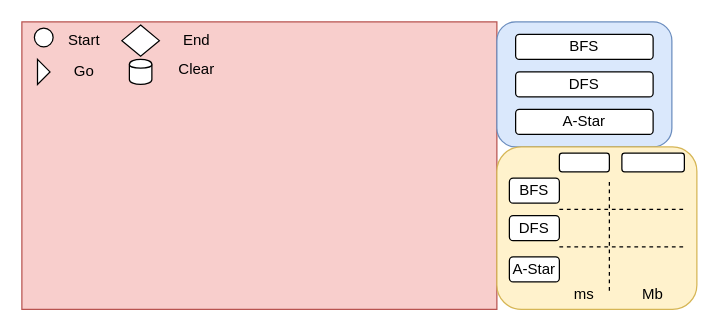
The diagram is 719 pixels wide and 331 high, and some of its shapes have lost their labels. The box of each missing label's shape, as (x1, y1, x2, y2) in pixels:
Memory: (621, 152, 684, 172)
Time: (558, 152, 609, 172)
